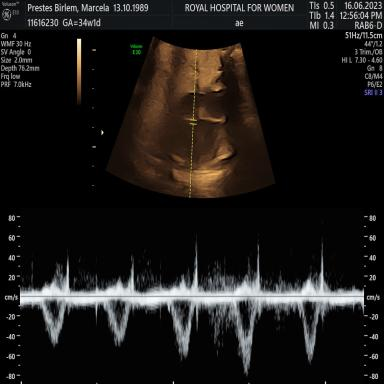Ultrasound-Waves: (25, 213, 360, 384)
